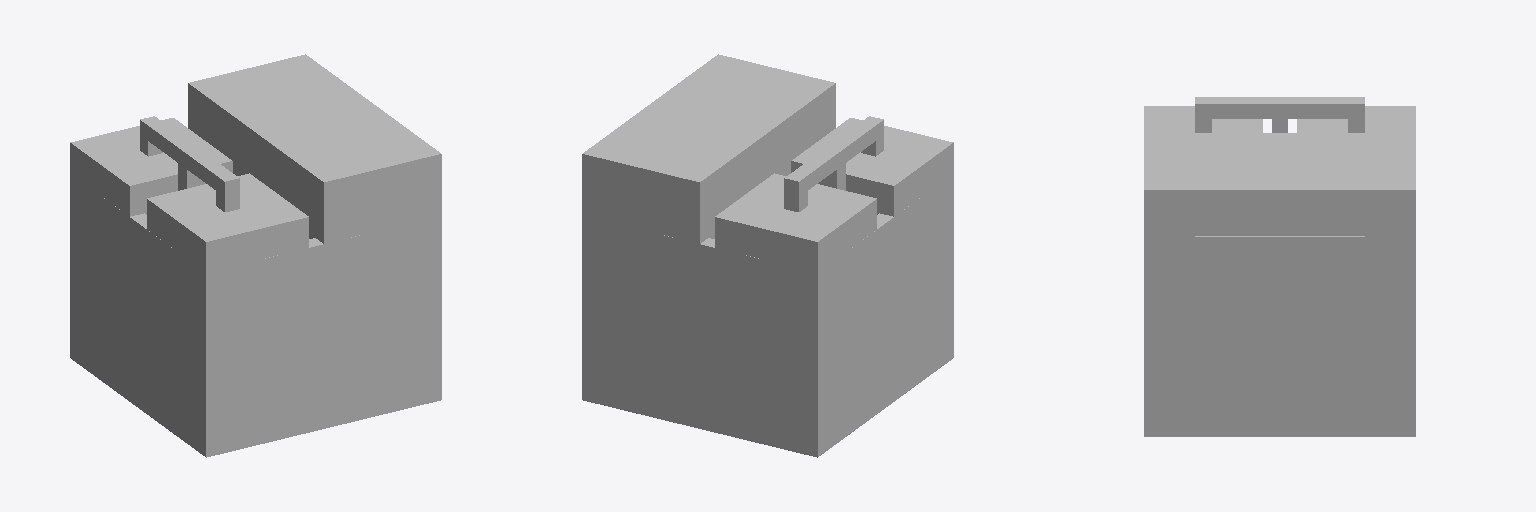
The model's file is separator.obj.
3 renders of one model, left to right at view 1: azimuth 30°, elevation 25°; view 2: azimuth 150°, elevation 25°; view 3: azimuth 270°, elevation 25°, orthographic.
Parts seen in each view (by area): view 1: tank1, base, tank2, portToggle4a, tank3, portToggle2a, tube4; view 2: tank1, base, tank3, portToggle3a, tank2, portToggle2a, tube4; view 3: tank1, portToggle1, base, tube4, tank3, tank2.
Part boxes in pixels (x1,y1,x2,y2): tank1: (188, 54, 441, 352); base: (70, 297, 441, 457); tank2: (147, 173, 308, 395); portToggle4a: (265, 230, 382, 381); tank3: (70, 118, 232, 320); portToggle2a: (104, 198, 171, 370); tube4: (140, 116, 239, 196); tank1: (582, 54, 835, 352); base: (582, 297, 953, 457); tank3: (715, 173, 876, 395); portToggle3a: (641, 230, 758, 381); tank2: (791, 118, 953, 320); portToggle2a: (852, 198, 919, 370); tube4: (784, 116, 883, 196); tank1: (1144, 133, 1415, 374); portToggle1: (1195, 236, 1364, 390); base: (1144, 375, 1415, 436); tube4: (1195, 97, 1364, 118); tank3: (1297, 106, 1415, 132); tank2: (1144, 106, 1262, 132).
Bounding box in the file's own units: 1 × 1 × 1.